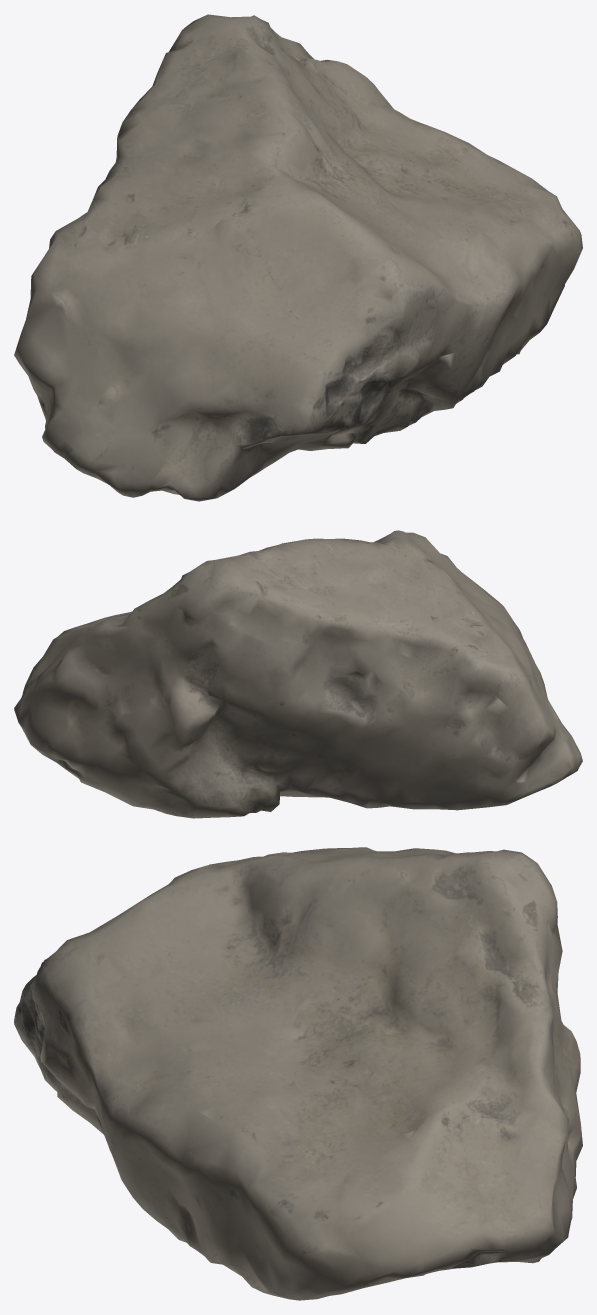
Rendered from moon_rock_03_1k.fbx.
3 views of the same model, one above another, from view 1: azimuth 30°, elevation 25°; view 2: azimuth 150°, elevation 25°; view 3: azimuth 270°, elevation 25° (orthographic). The views are drawn at different scales.
Visible parts, largest first — view 1: moon_rock_03_LOD0; view 2: moon_rock_03_LOD0; view 3: moon_rock_03_LOD0.
Boxes of the visible parts, x1=… form: moon_rock_03_LOD0: x1=14, y1=14, x2=582, y2=501; moon_rock_03_LOD0: x1=14, y1=530, x2=582, y2=818; moon_rock_03_LOD0: x1=14, y1=847, x2=582, y2=1300.
Size of the model in its own units: 11.2 by 5.82 by 8.61.
